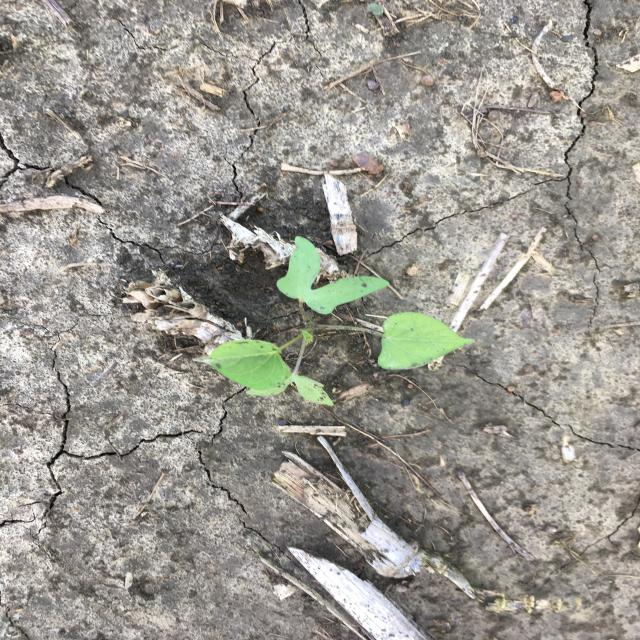MorningGlory: (191, 233, 479, 410)
